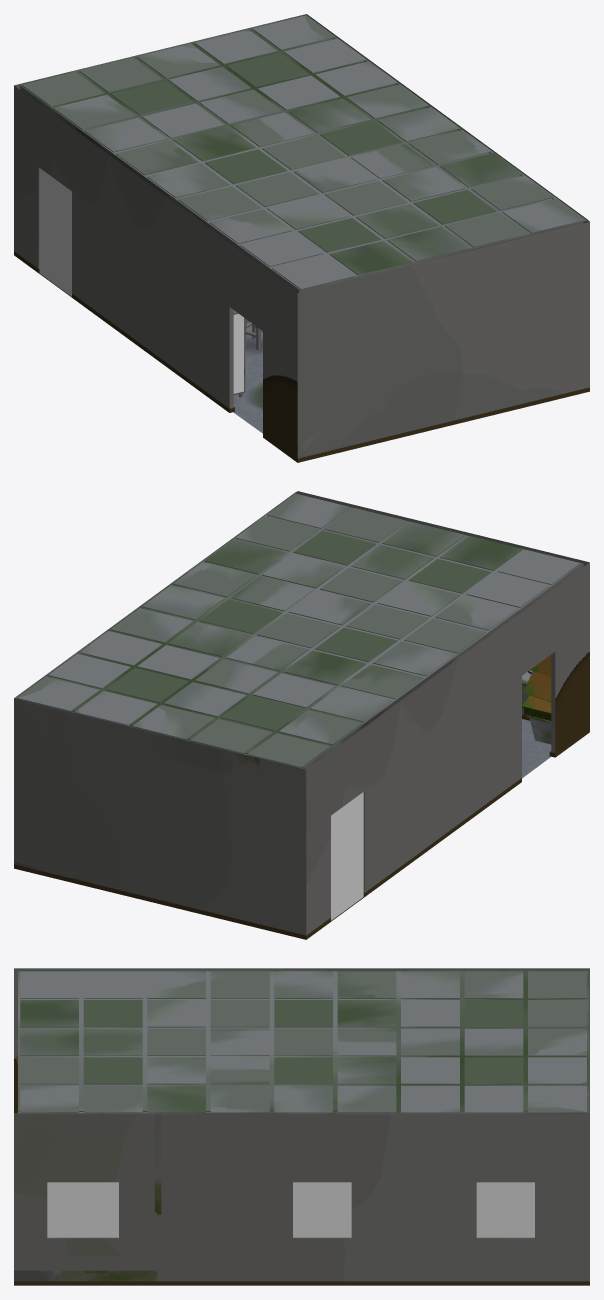
The model's file is MakerSpaceFBX.fbx.
3 views of the same model, one above another, from view 1: azimuth 30°, elevation 25°; view 2: azimuth 150°, elevation 25°; view 3: azimuth 270°, elevation 25° (orthographic).
Visible parts, largest first — view 1: Wall, Celling, GlassDoor, Floor, Glass2; view 2: Wall, Celling, GlassDoor, Floor, FillamentBox7; view 3: Wall, Celling, Window3, Window1, Window2.
Boxes of the visible parts, x1,y1,x2,y2 form: Wall: [14, 14, 589, 462]; Celling: [19, 14, 587, 291]; GlassDoor: [39, 168, 71, 296]; Floor: [233, 320, 262, 433]; Glass2: [233, 313, 243, 393]; Wall: [14, 491, 589, 939]; Celling: [14, 492, 583, 768]; GlassDoor: [331, 792, 363, 920]; Floor: [333, 719, 551, 919]; FillamentBox7: [524, 671, 551, 702]; Wall: [14, 968, 589, 1285]; Celling: [18, 970, 589, 1114]; Window3: [47, 1182, 118, 1237]; Window1: [293, 1182, 351, 1237]; Window2: [476, 1182, 534, 1237].
Bounding box in the file's own units: 721 × 402 × 1210.
